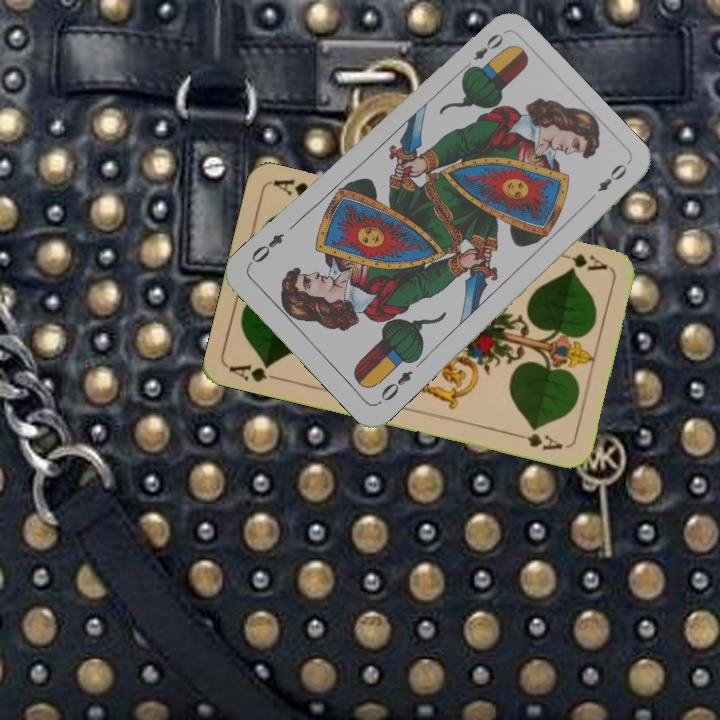EO: (459, 29, 506, 75), (374, 366, 415, 407)
GA: (226, 359, 285, 385), (552, 249, 610, 273)
